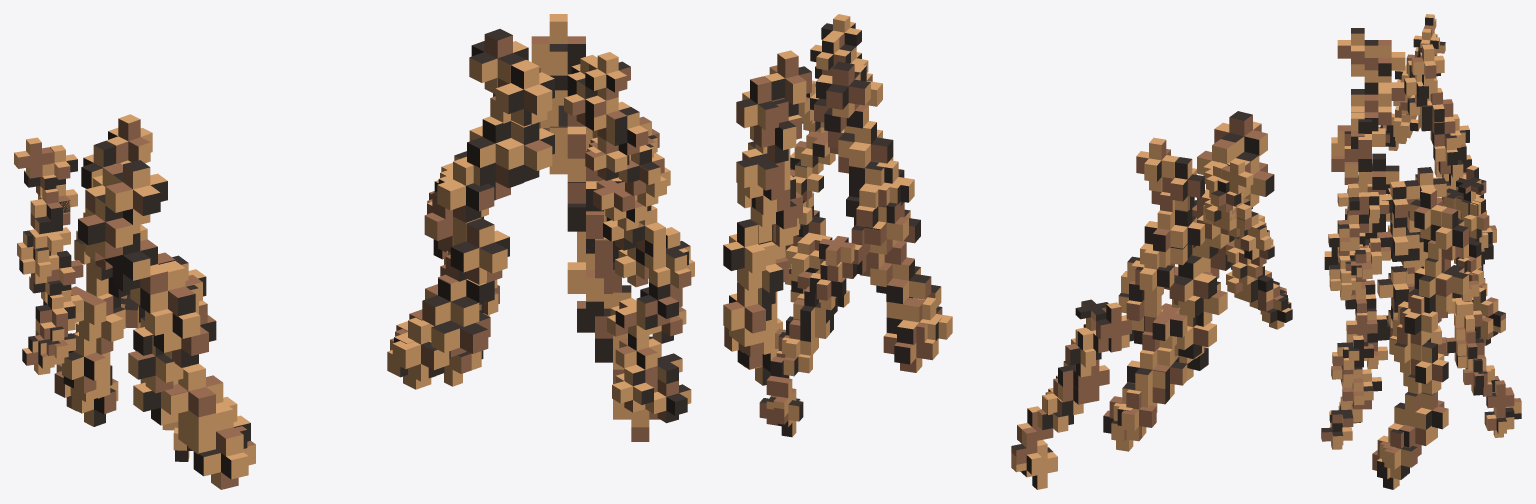
The model's file is structure-with-placeholders.glb.
3 renders of one model, left to right at view 1: azimuth 30°, elevation 25°; view 2: azimuth 150°, elevation 25°; view 3: azimuth 270°, elevation 25°, orthographic. The views are drawn at different scales.
Visible parts, largest first — view 1: Structure; view 2: Structure; view 3: Structure.
Boxes of the visible parts, x1,y1,x2,y2 form: Structure: [14, 14, 694, 489]; Structure: [723, 14, 1292, 489]; Structure: [1321, 14, 1521, 489].
Bounding box in the file's own units: 21.57 × 13.25 × 8.54.
1 material, 1 textured.
